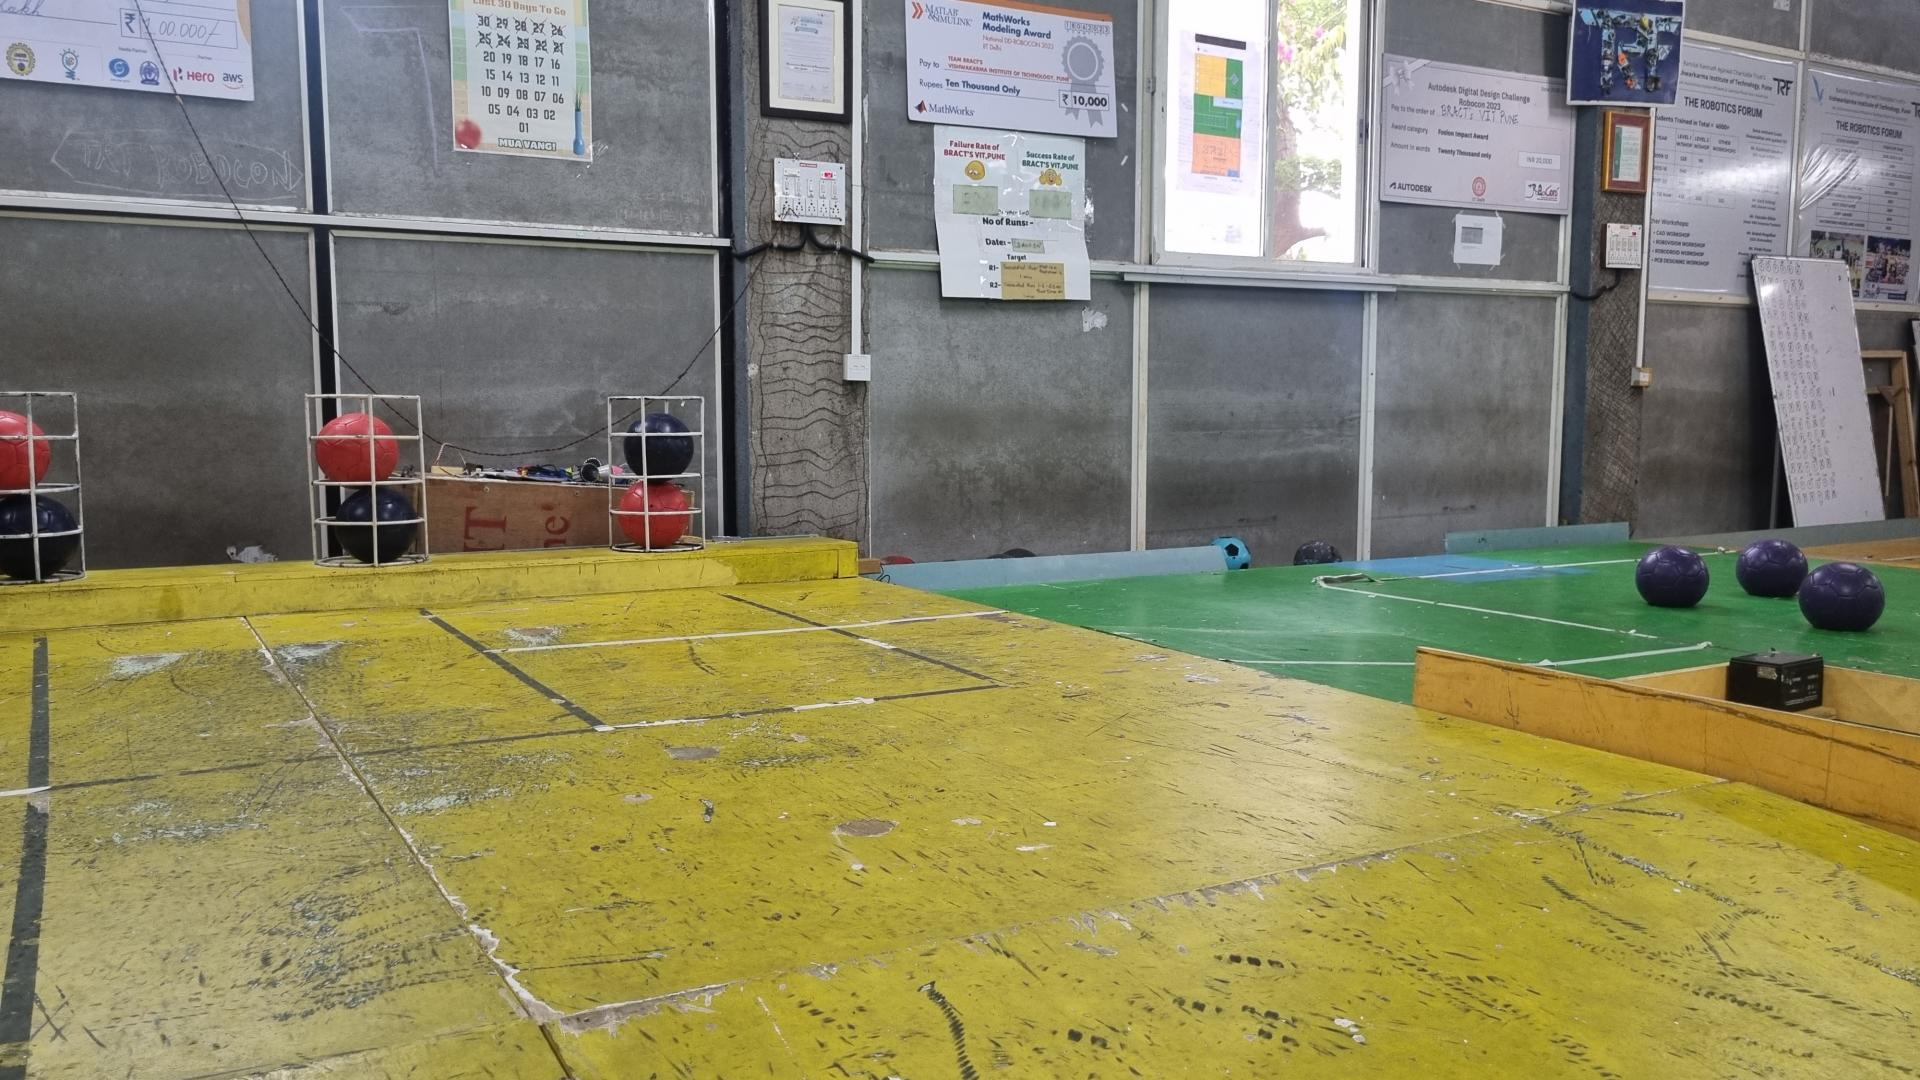dhoka: (0, 495, 79, 580), (334, 487, 417, 562), (622, 413, 694, 476)
laale: (315, 413, 397, 484), (618, 484, 690, 547), (0, 413, 53, 491)
